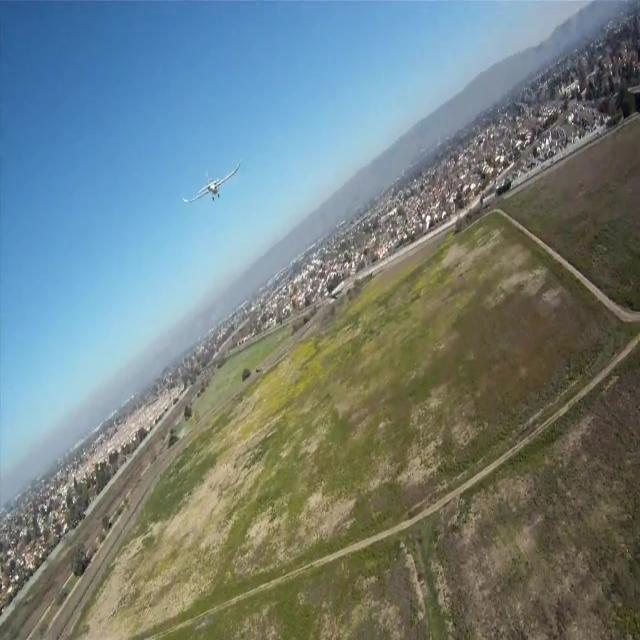iha: (180, 159, 242, 207)
